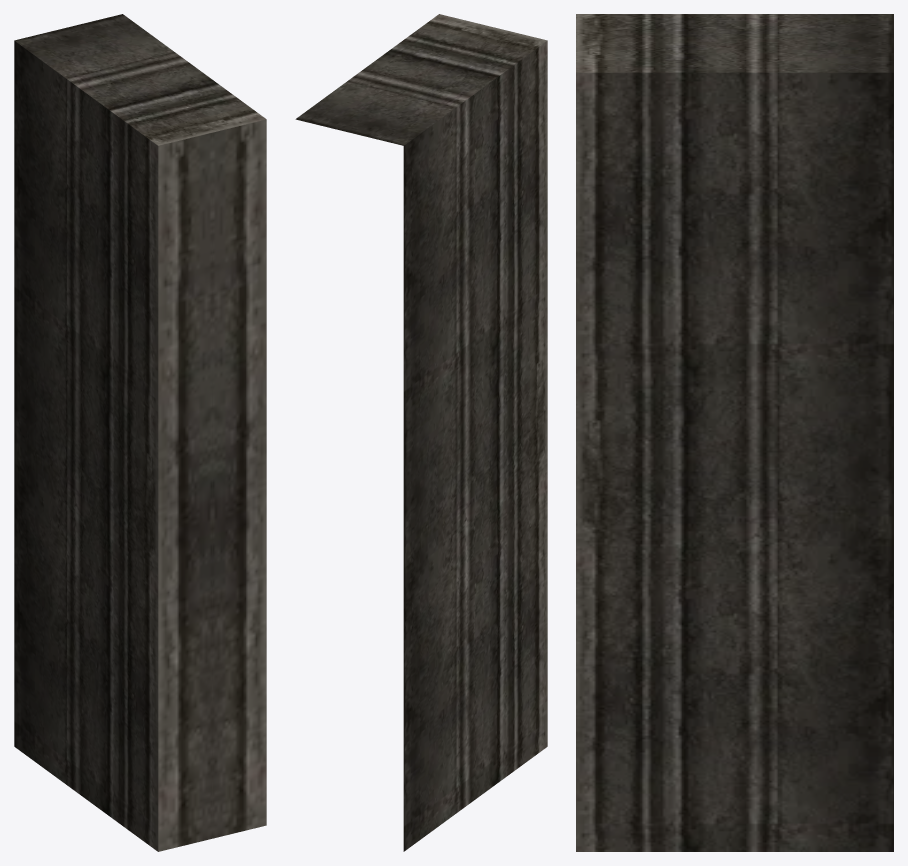
3 renders of one model, left to right at view 1: azimuth 30°, elevation 25°; view 2: azimuth 150°, elevation 25°; view 3: azimuth 270°, elevation 25°, orthographic. The views are drawn at different scales.
Parts seen in each view (by area): view 1: model_Object39; view 2: model_Object39; view 3: model_Object39.
Part boxes in pixels (<box>): model_Object39: <box>14,14,266,851</box>; model_Object39: <box>295,14,547,851</box>; model_Object39: <box>576,14,893,851</box>.
Bounding box in the file's own units: 0.3497 × 2.17 × 0.8032.
1 material, 1 textured.
